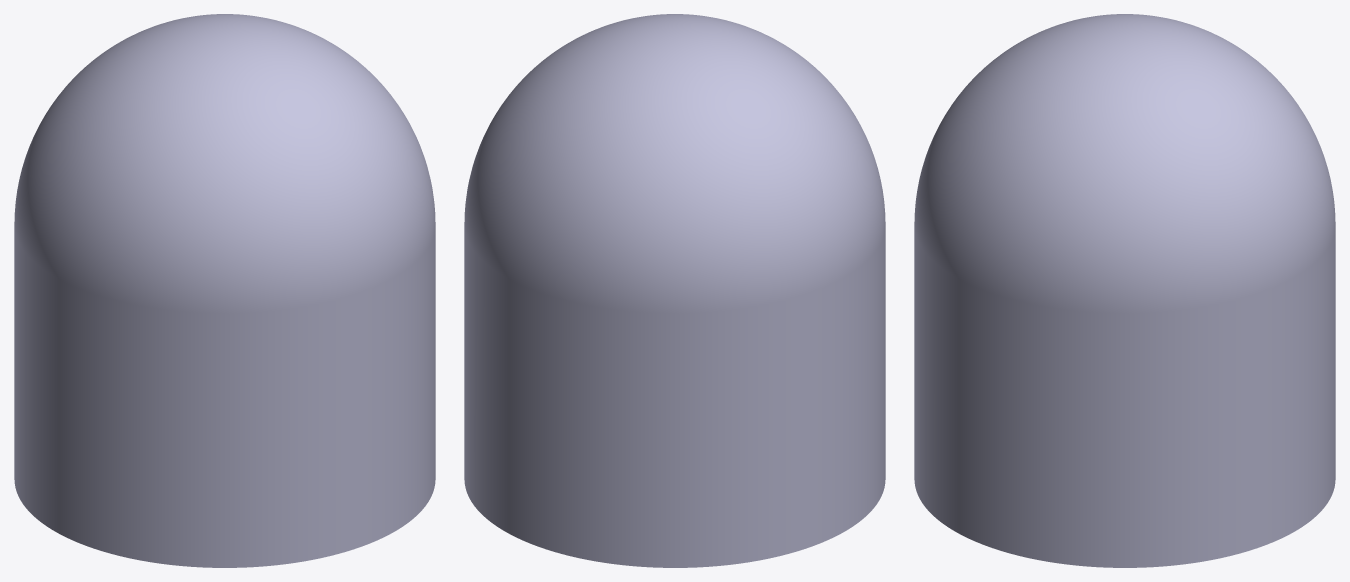
File: OUTFITTING_INTERIOR__EXT. INSTRUMENTS__FLIR MD-625.glb
The picture shows the model from 3 angles, left to right: view 1: azimuth 30°, elevation 25°; view 2: azimuth 150°, elevation 25°; view 3: azimuth 270°, elevation 25°; orthographic projection.
Visible parts, largest first — view 1: FLIR MD-625; view 2: FLIR MD-625; view 3: FLIR MD-625.
Boxes of the visible parts, x1=… form: FLIR MD-625: x1=14, y1=14, x2=435, y2=567; FLIR MD-625: x1=464, y1=14, x2=885, y2=567; FLIR MD-625: x1=914, y1=14, x2=1335, y2=567.
Bounding box in the file's own units: 0.1524 × 0.1778 × 0.1524.
